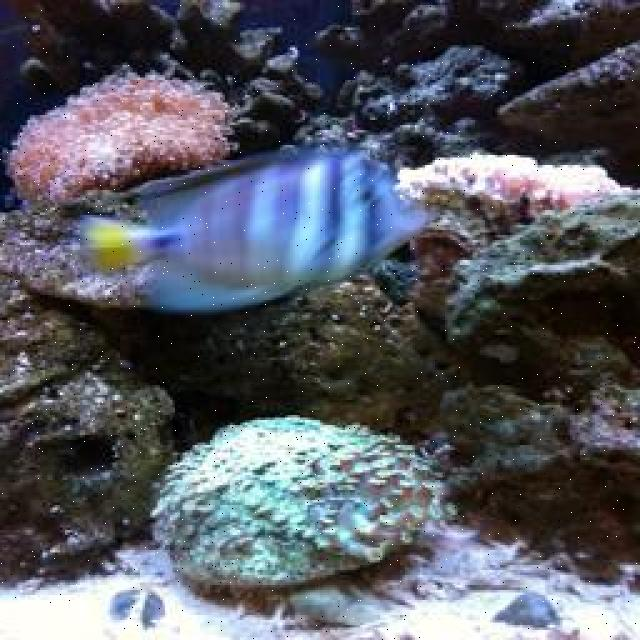fish: (80, 148, 432, 313)
reefs: (151, 413, 451, 598), (3, 69, 232, 204), (398, 152, 636, 233)
